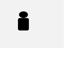human: (16, 9, 31, 32)
